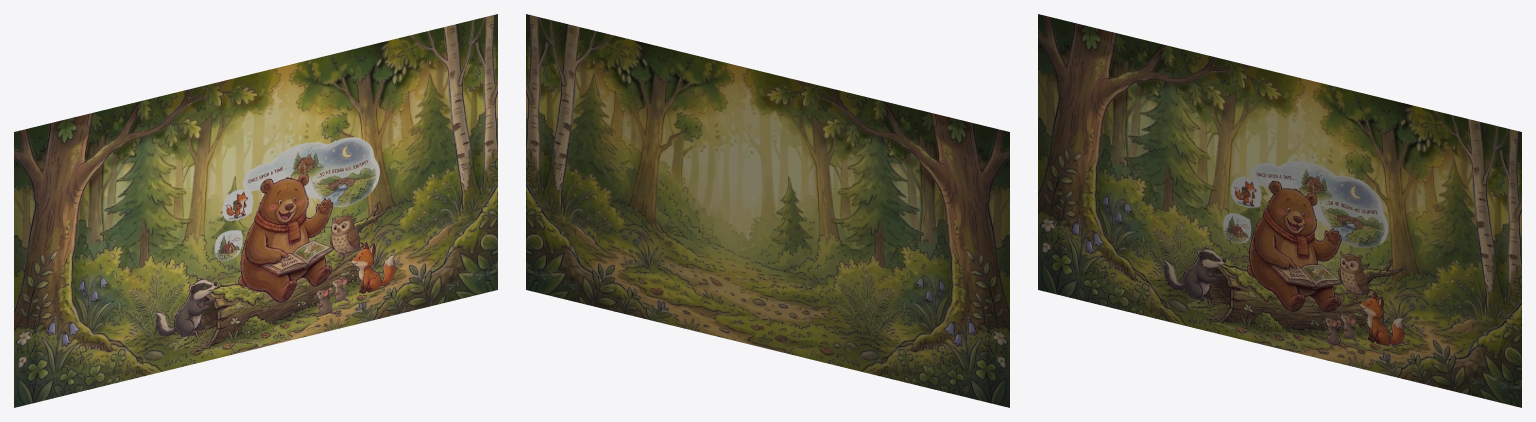
The model's file is Families-love-awetales-section-bg-4.glb.
3 renders of one model, left to right at view 1: azimuth 30°, elevation 25°; view 2: azimuth 150°, elevation 25°; view 3: azimuth 330°, elevation 25°, orthographic.
Parts seen in each view (by area): view 1: mesh_id31, mesh_id50, mesh_id36; view 2: mesh_id31; view 3: mesh_id31, mesh_id50, mesh_id36.
Boxes of the visible parts, x1=… form: mesh_id31: x1=14, y1=14, x2=497, y2=407; mesh_id50: x1=154, y1=137, x2=396, y2=337; mesh_id36: x1=174, y1=201, x2=391, y2=355; mesh_id31: x1=526, y1=14, x2=1009, y2=407; mesh_id31: x1=1038, y1=14, x2=1521, y2=407; mesh_id50: x1=1163, y1=161, x2=1404, y2=353; mesh_id36: x1=1187, y1=259, x2=1405, y2=357.
Bounding box in the file's own units: 1.02 × 0.5727 × 0.0284.
Materials: 3 (3 with a texture image).
